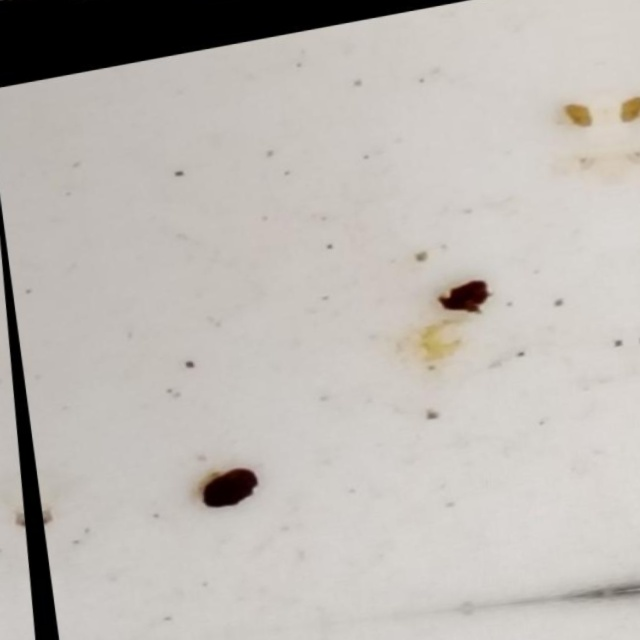varroa: (190, 456, 259, 509)
